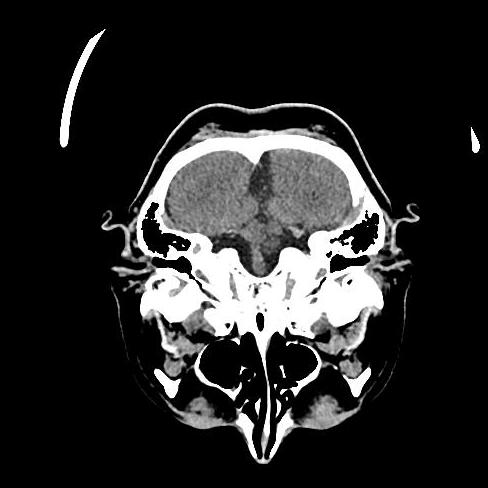Normal_Brain: (100, 102, 423, 479)
